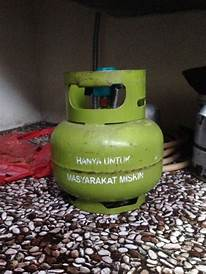gas_ijo: (52, 68, 164, 215)
